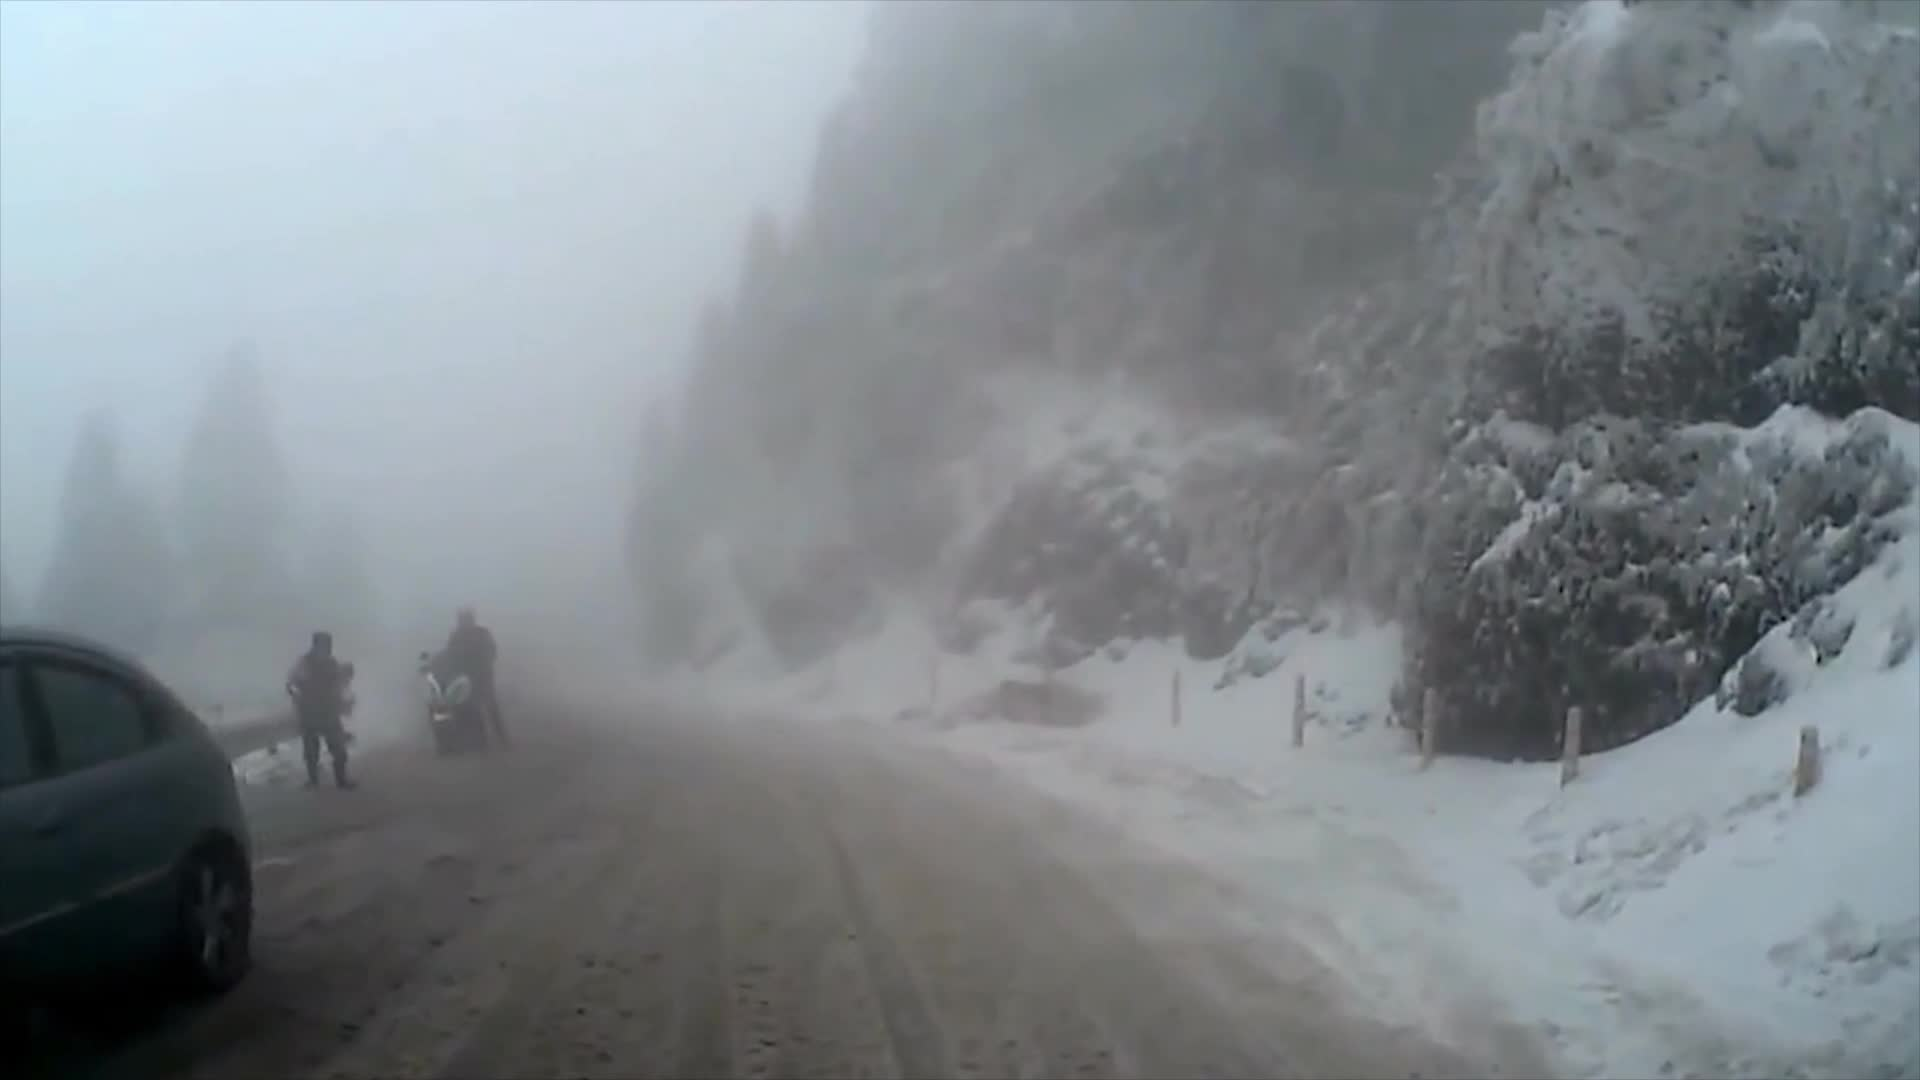pedestrian: (290, 631, 360, 794), (436, 601, 513, 747)
vehicle: (0, 626, 256, 1080)
